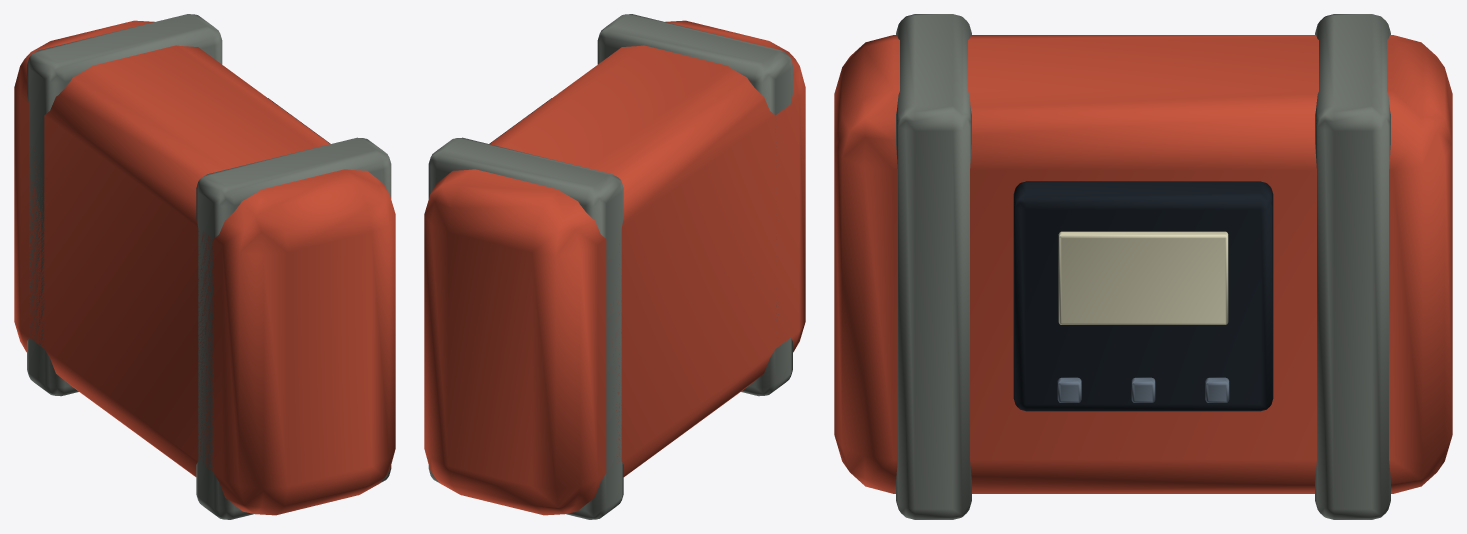
3 views of the same model, side by side, from view 1: azimuth 30°, elevation 25°; view 2: azimuth 150°, elevation 25°; view 3: azimuth 270°, elevation 25° (orthographic). The views are drawn at different scales.
Visible parts, largest first — view 1: stylized wrapped package, wrapping strap; view 2: stylized wrapped package, wrapping strap; view 3: stylized wrapped package, wrapping strap, abstract faceplate, blank indicator, decorative panel dots.
Boxes of the visible parts, x1=… form: stylized wrapped package: x1=14, y1=20, x2=395, y2=515; wrapping strap: x1=27, y1=14, x2=391, y2=519; stylized wrapped package: x1=424, y1=20, x2=805, y2=515; wrapping strap: x1=428, y1=14, x2=792, y2=519; stylized wrapped package: x1=834, y1=35, x2=1452, y2=493; wrapping strap: x1=896, y1=14, x2=1390, y2=519; abstract faceplate: x1=1013, y1=181, x2=1273, y2=411; blank indicator: x1=1058, y1=231, x2=1228, y2=324; decorative panel dots: x1=1057, y1=377, x2=1229, y2=402.
Size of the model in its own units: 0.1485 by 0.228 by 0.31.
